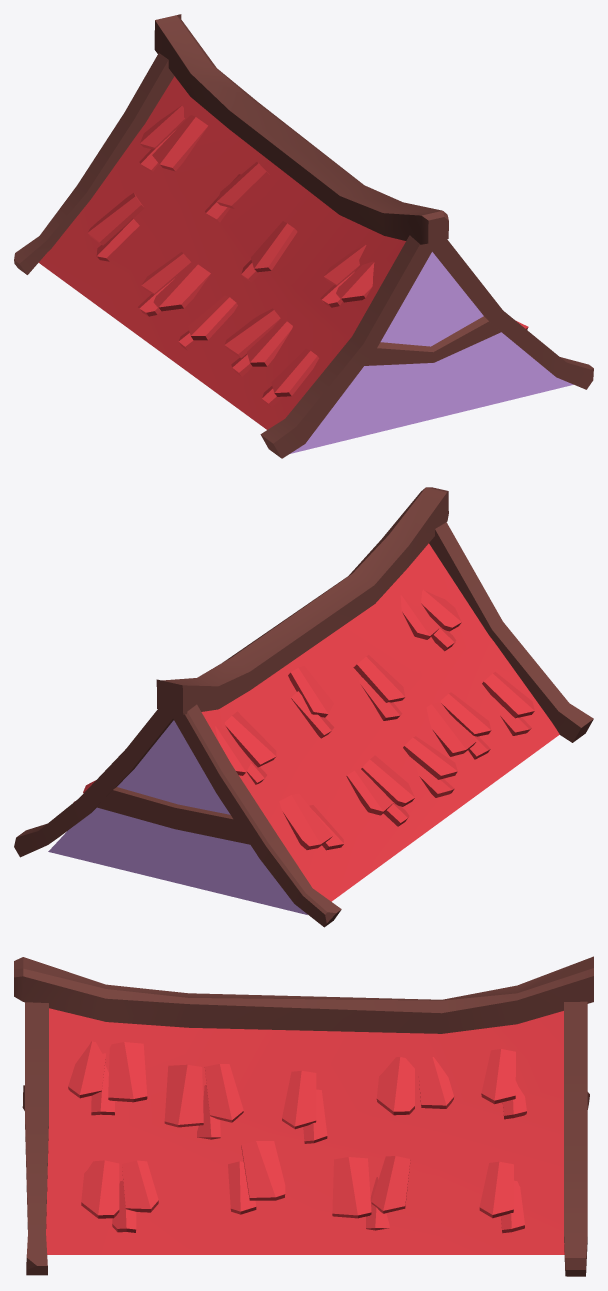
The model's file is BuildingRoof_02.fbx.
3 views of the same model, one above another, from view 1: azimuth 30°, elevation 25°; view 2: azimuth 150°, elevation 25°; view 3: azimuth 270°, elevation 25° (orthographic). The views are drawn at different scales.
Parts seen in each view (by area): view 1: BuildingRoof_02; view 2: BuildingRoof_02; view 3: BuildingRoof_02.
Boxes of the visible parts, x1,y1,x2,y2 form: BuildingRoof_02: (14,14,593,458); BuildingRoof_02: (14,487,593,927); BuildingRoof_02: (14,956,593,1276).
Bounding box in the file's own units: 734 × 466 × 1053.
